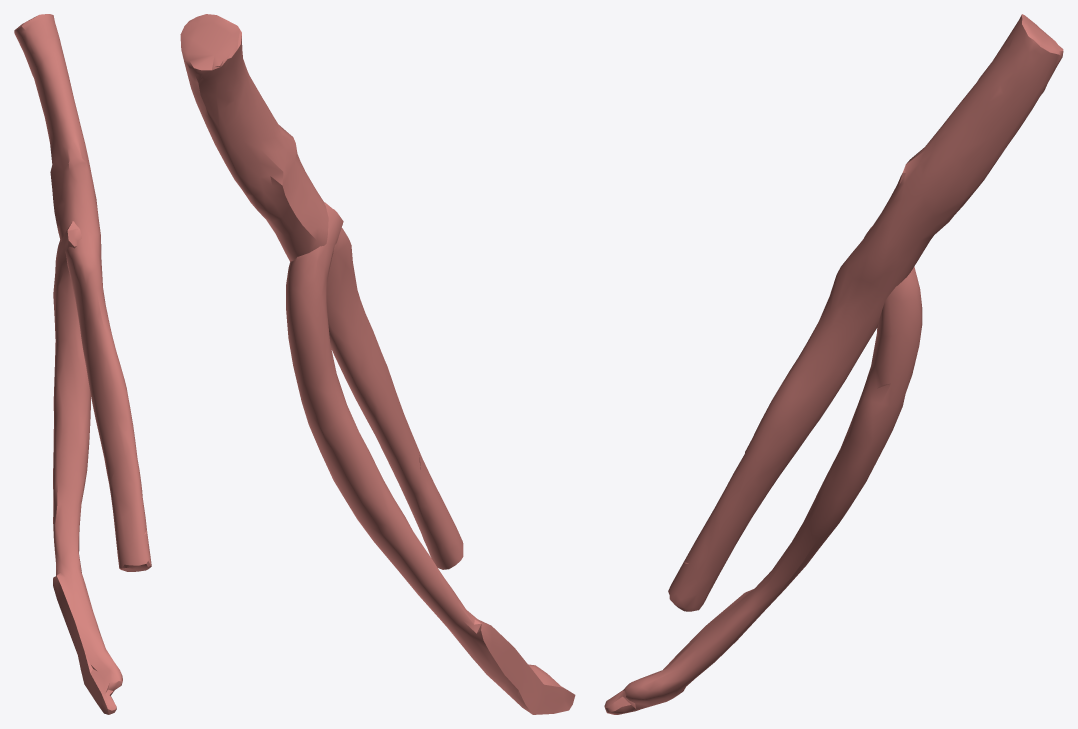
File: fma39613_mm2032.glb
3 views of the same model, side by side, from view 1: azimuth 30°, elevation 25°; view 2: azimuth 150°, elevation 25°; view 3: azimuth 270°, elevation 25° (orthographic). The views are drawn at different scales.
Parts seen in each view (by area): view 1: FMA39613_MM2032; view 2: FMA39613_MM2032; view 3: FMA39613_MM2032.
Boxes of the visible parts, x1,y1,x2,y2 form: FMA39613_MM2032: [14, 14, 151, 714]; FMA39613_MM2032: [180, 14, 575, 714]; FMA39613_MM2032: [604, 14, 1063, 714].
Bounding box in the file's own units: 0.00994 × 0.0501 × 0.0277.
